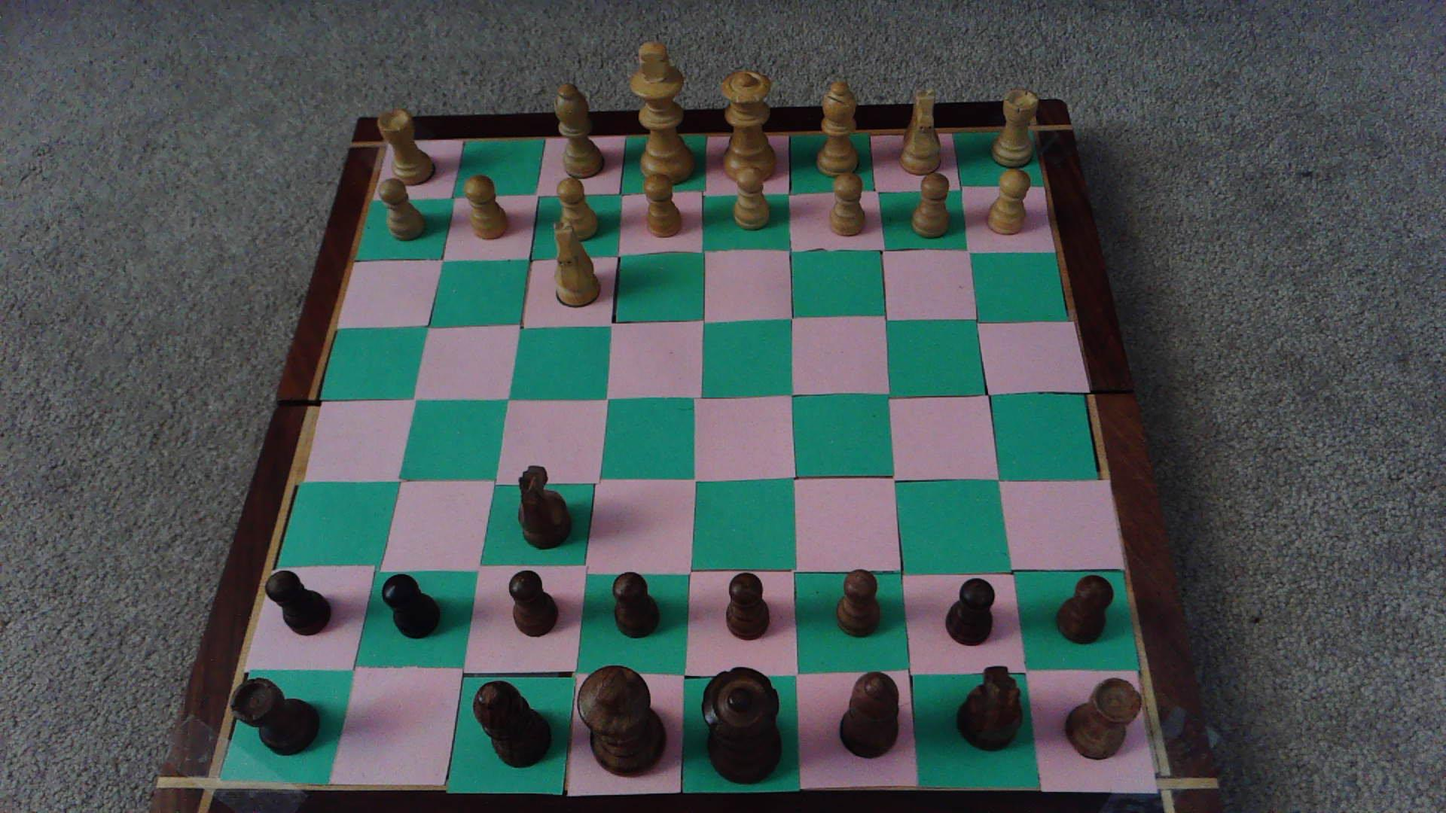dark_piece: (575, 665, 665, 776), (702, 668, 782, 784), (232, 677, 319, 754), (473, 681, 549, 767), (1064, 678, 1140, 760), (956, 666, 1022, 750), (840, 671, 898, 758), (518, 466, 571, 548), (265, 570, 331, 634), (1057, 575, 1113, 644), (382, 574, 440, 638), (509, 570, 558, 636), (945, 578, 993, 645), (612, 572, 660, 638), (726, 572, 769, 640), (837, 570, 880, 636)
white_piece: (630, 42, 695, 185), (719, 70, 777, 183), (553, 84, 604, 179), (815, 80, 860, 178), (379, 109, 434, 184), (990, 89, 1038, 169), (555, 219, 599, 306), (899, 88, 942, 175), (377, 178, 426, 239), (987, 169, 1031, 236), (465, 175, 507, 239), (557, 178, 599, 242), (732, 166, 771, 231), (912, 173, 950, 239), (644, 172, 681, 236), (829, 172, 866, 236)
